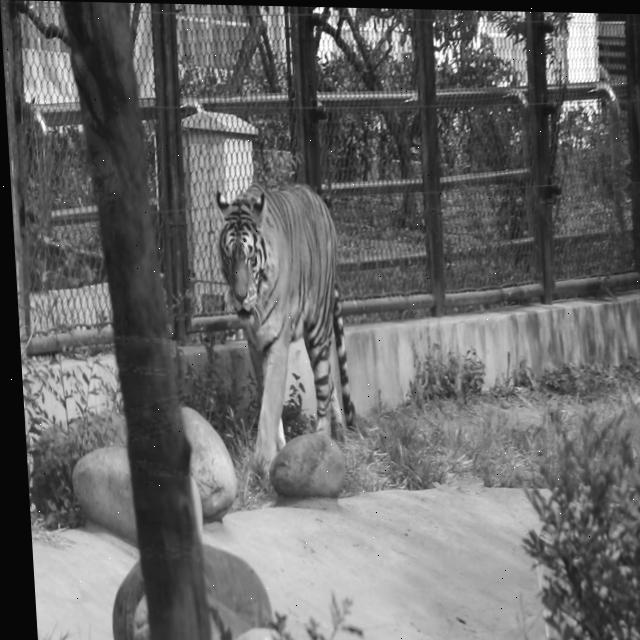Tiger: (213, 178, 361, 480)
